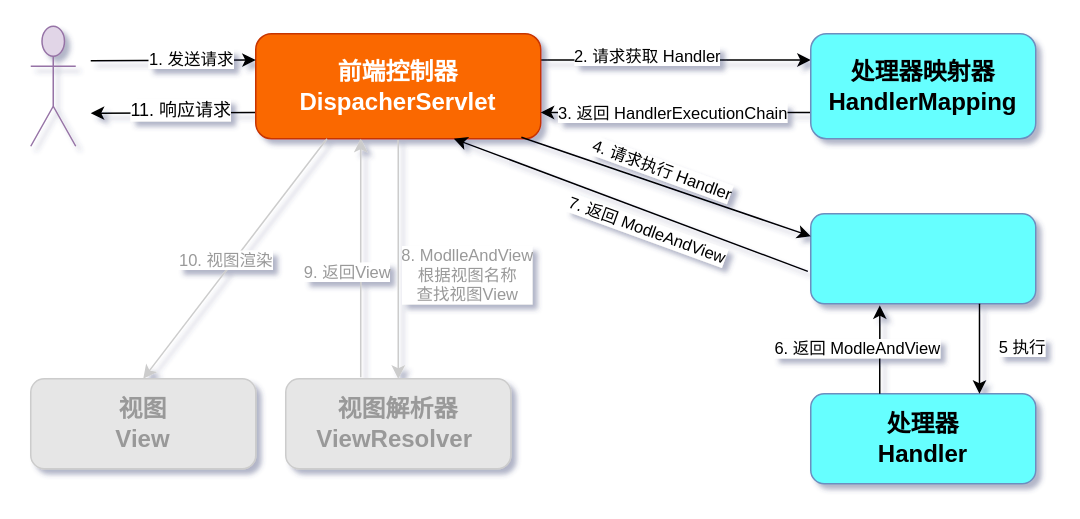
This 1080x519 diagram has some shape labels left out. The centre of each missing label's shape, as x and y in pixels:
处理器适配器 HandlerAdapter: the point at 922,258
浏览器: the point at 52,85
